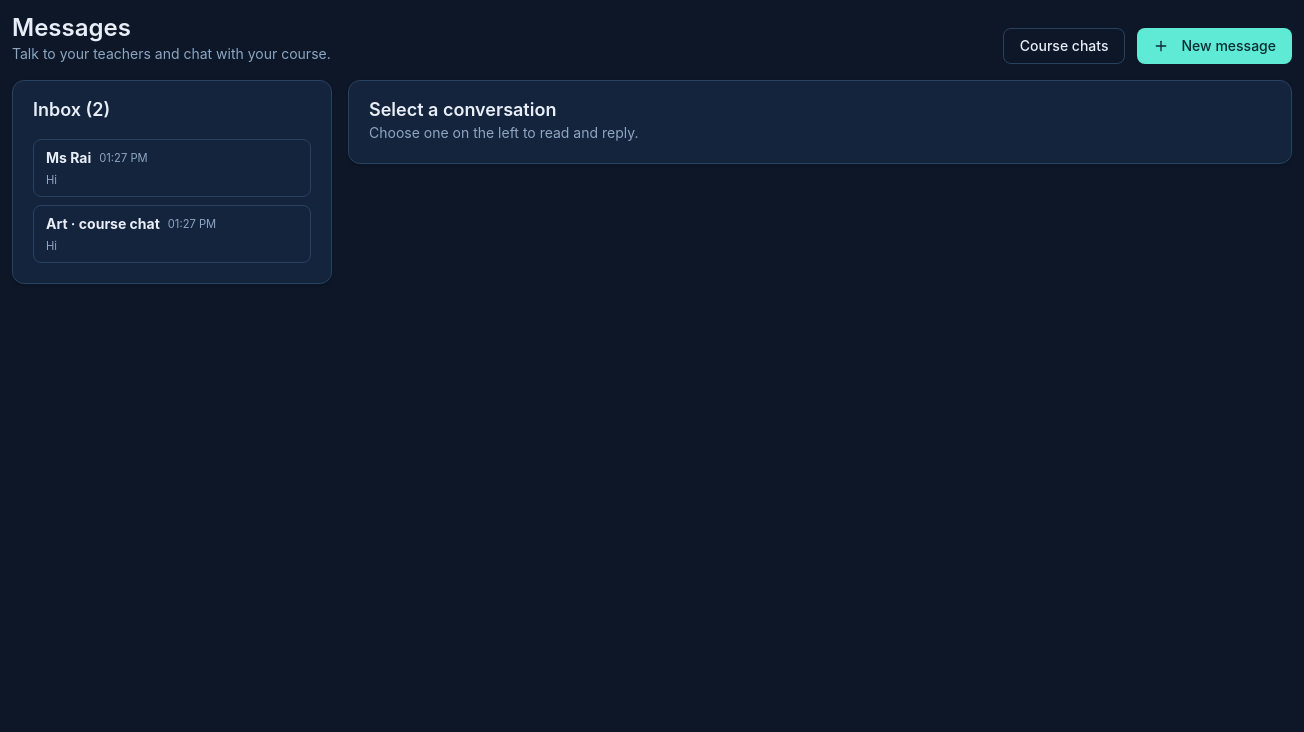
MessagesPage › lets a moderator delete anyone’s message in a course chat but not in a direct chat
The width and height of the screenshot is (1304, 732).
Click the button "Ms Rai 01:27 PM Hi". click: (69, 158)
box: [33,139,311,197]
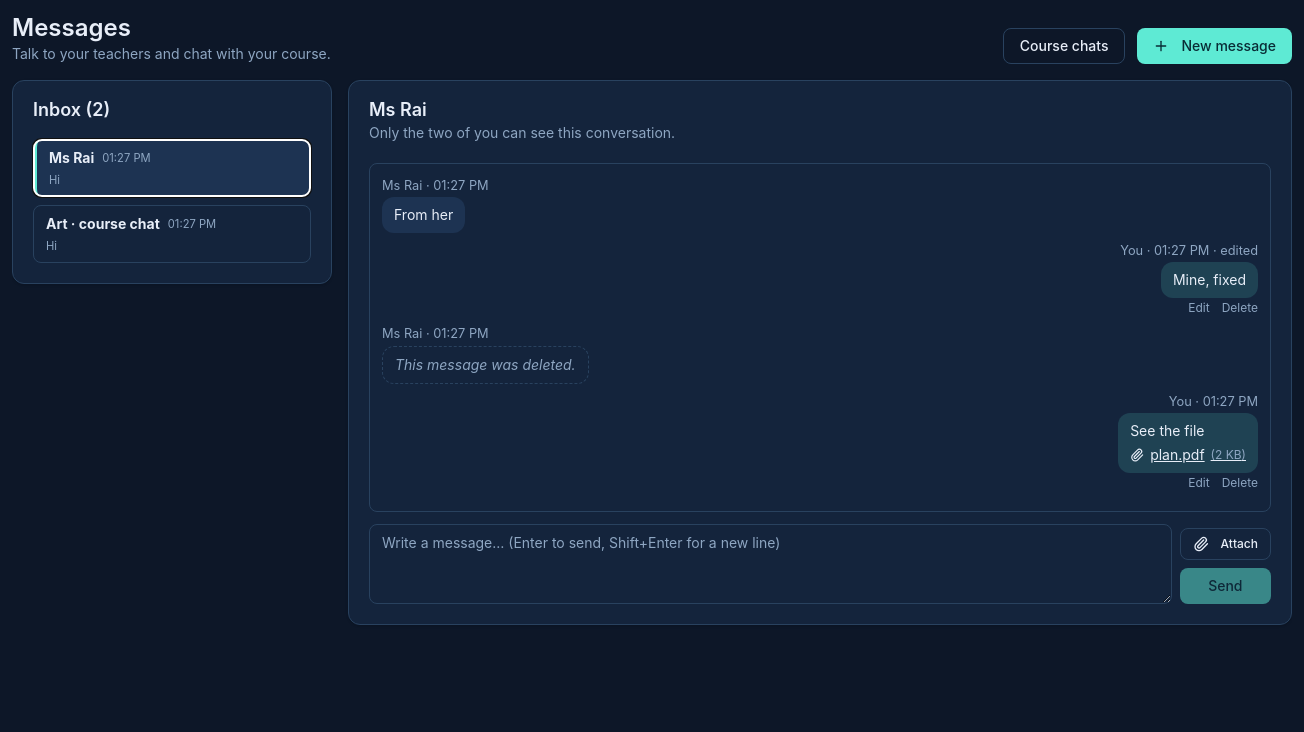
Now the text "From her" is shown, box [394,205,453,225]
Click the button "Art · course chat 01:27 PM Hi". click: (172, 234)
box: [33,205,311,263]
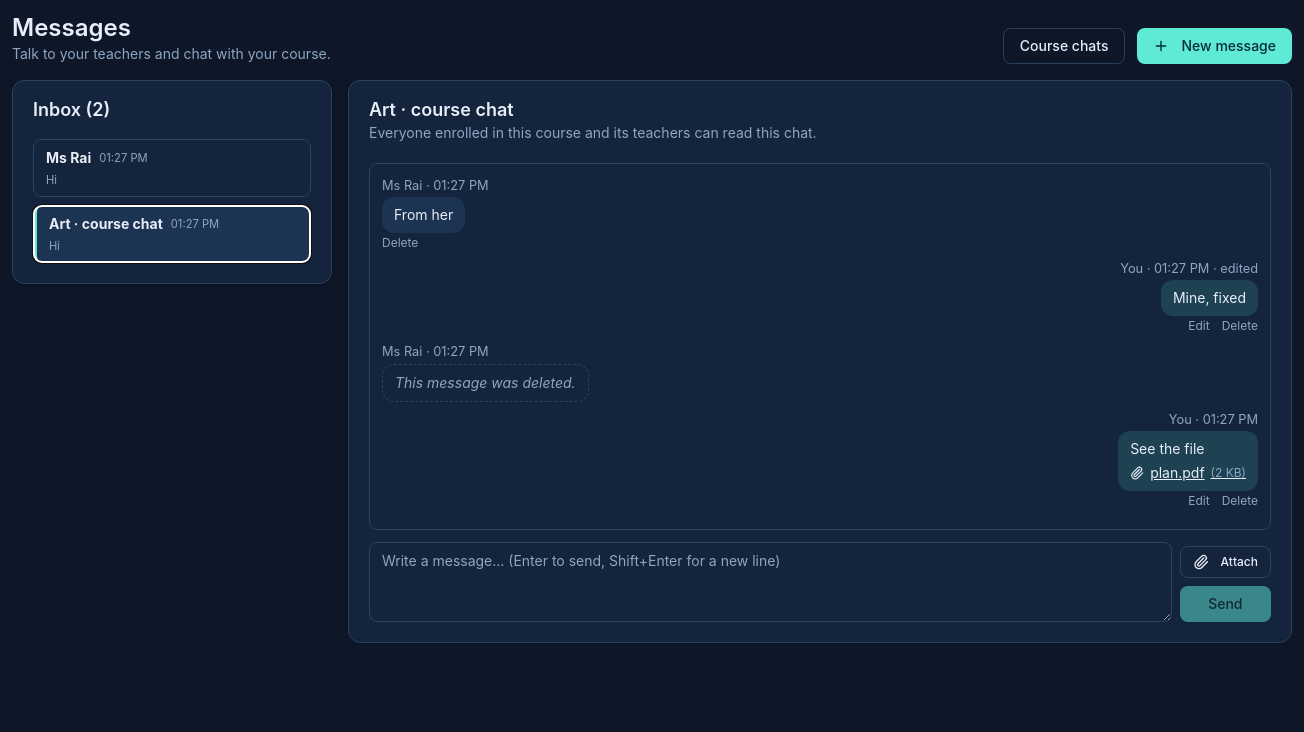
Now the button with aria-label "Delete message: From her" is shown, box [382,235,418,251]
